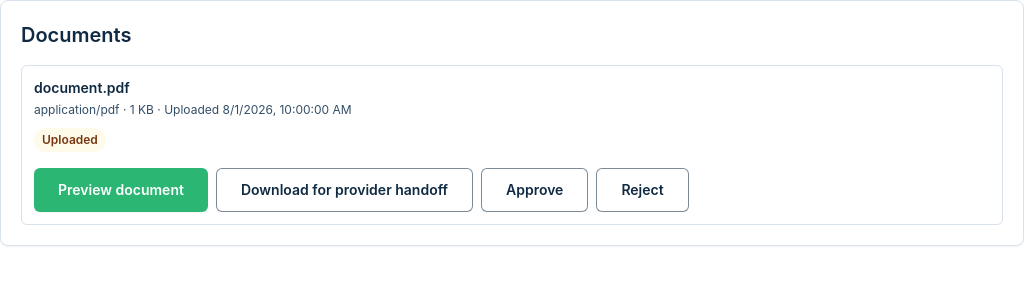
Test case: AdminAppointmentDocumentsCard › restores the preview action after a safe loading failure
Click the button "Preview document".
click(121, 190)  # box [34,168,208,212]
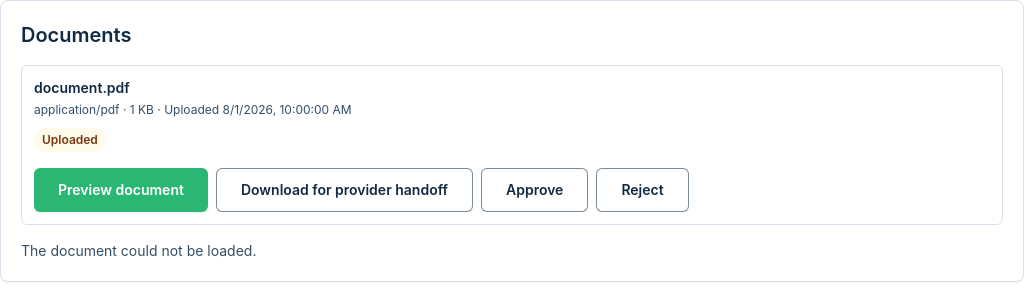
Expected: the message reads "The document could not be loaded.", [21,242,256,259]
